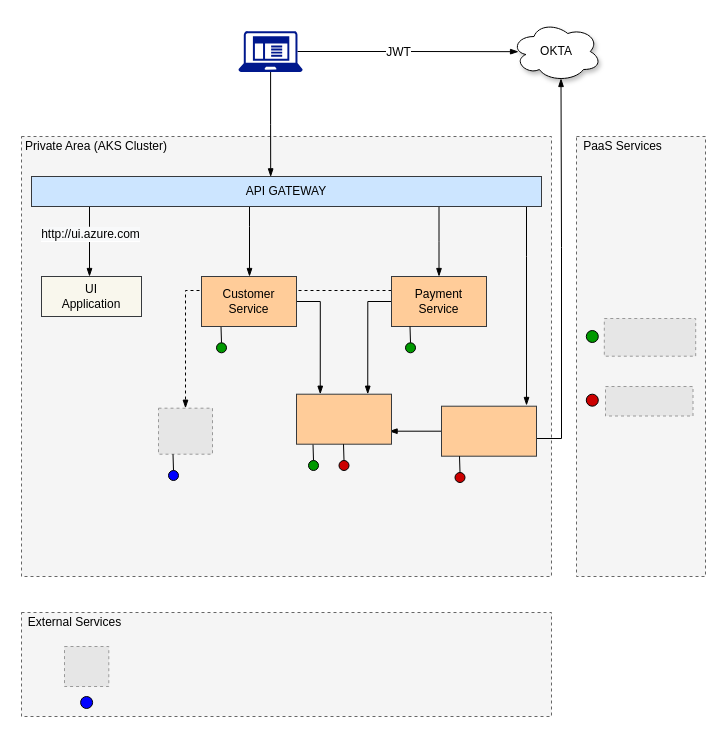
The diagram is 723 pixels wide and 734 high, and some of its shapes have lost their labels. Grey dashed boxes stand in for pictures. The centre of each missing label's shape, as x and y in pixels:
IAM Service: (488,430)
Reference Data Service: (344,418)
